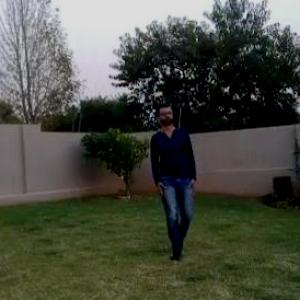follow: (147, 100, 204, 264)
